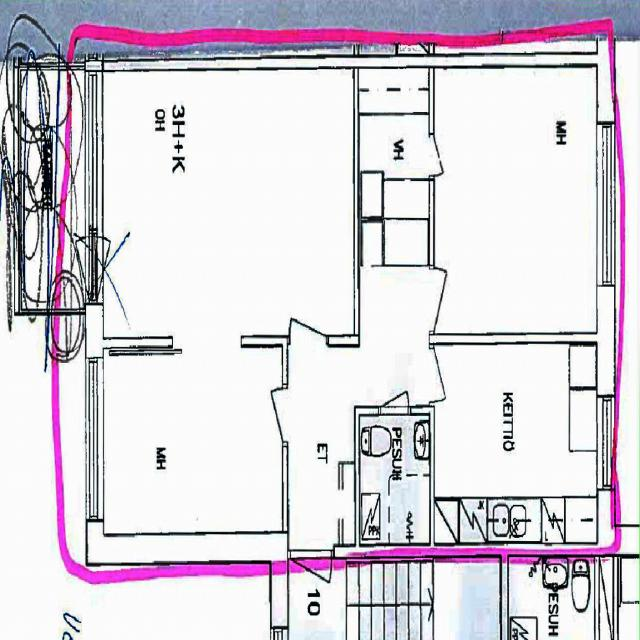door: (290, 544, 332, 633), (428, 269, 471, 330), (290, 278, 326, 348), (250, 388, 288, 442), (429, 348, 466, 402), (381, 360, 408, 415), (429, 135, 459, 176)
